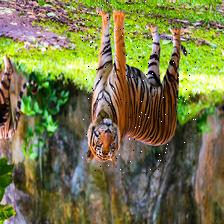tiger: (82, 0, 196, 171)
